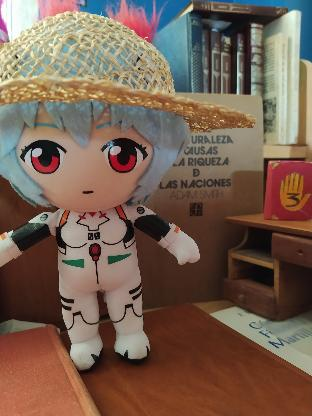rei-plush: (0, 89, 212, 371)
